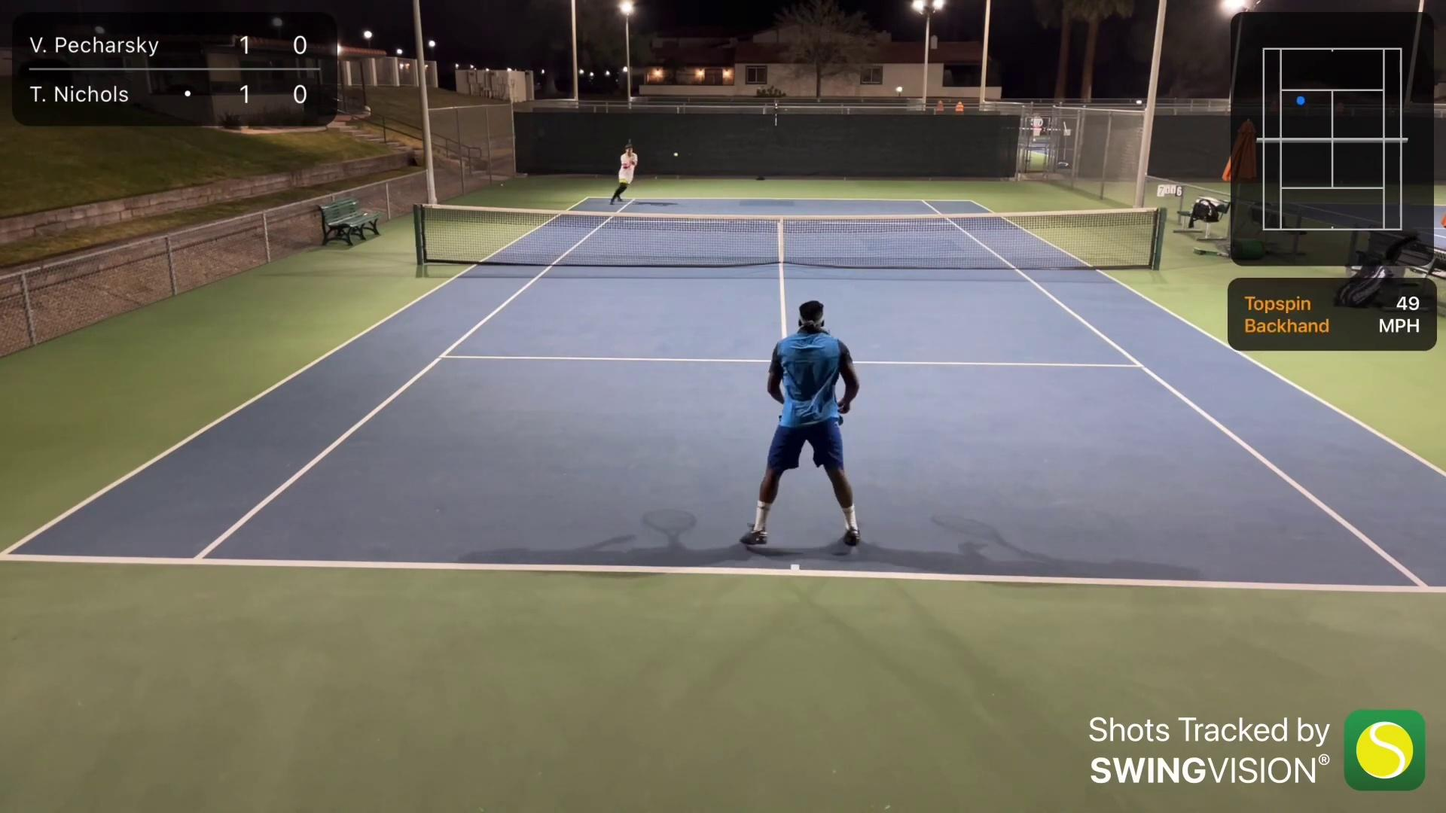ball: (672, 151, 679, 158)
